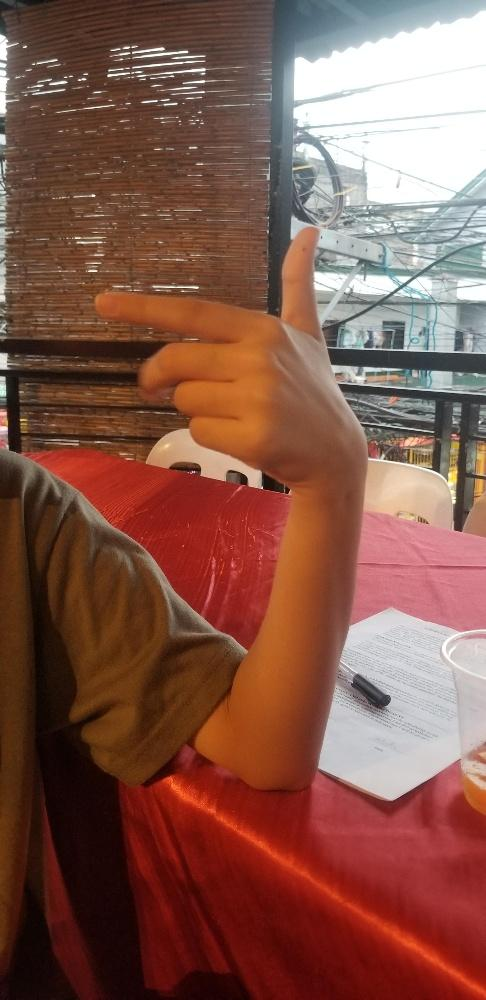g: (90, 225, 368, 484)
